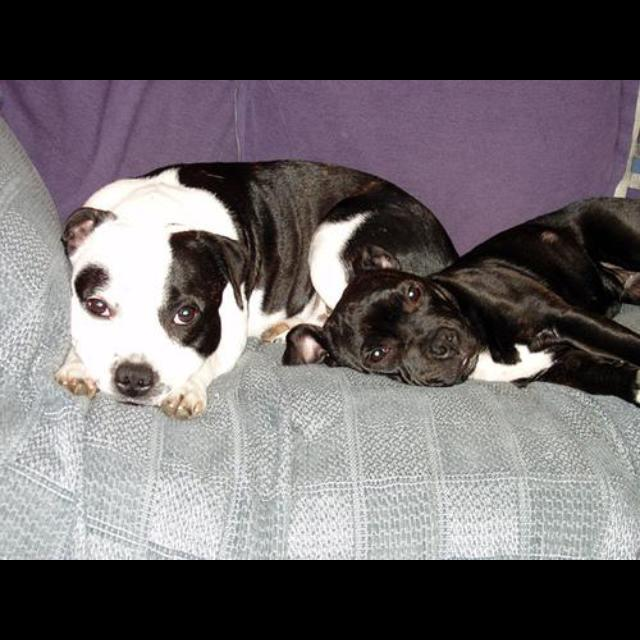staffford: (54, 159, 462, 421), (282, 195, 640, 407)
